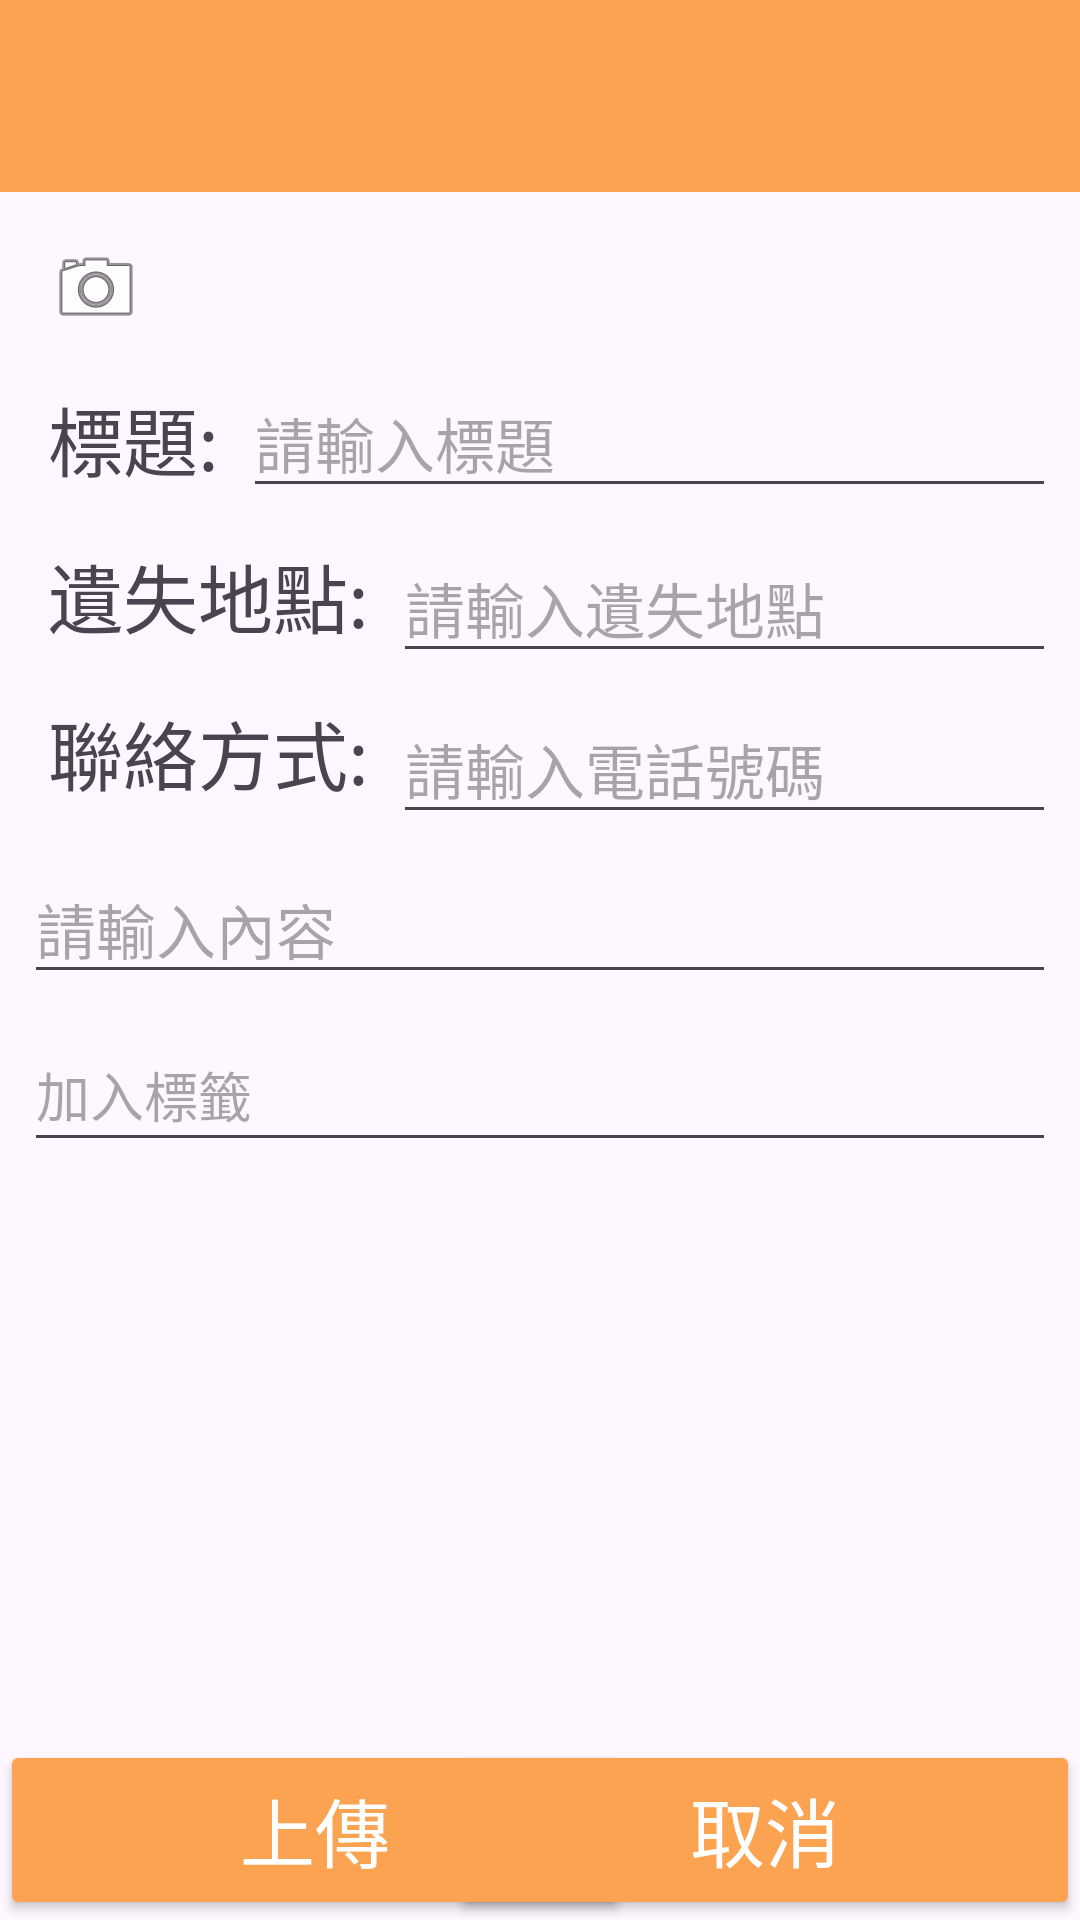

Icons on this 1080 x 1920 Android screen, each with its box as Rect(x1, y1, x2, y2):
camera: Rect(59, 257, 133, 316)
